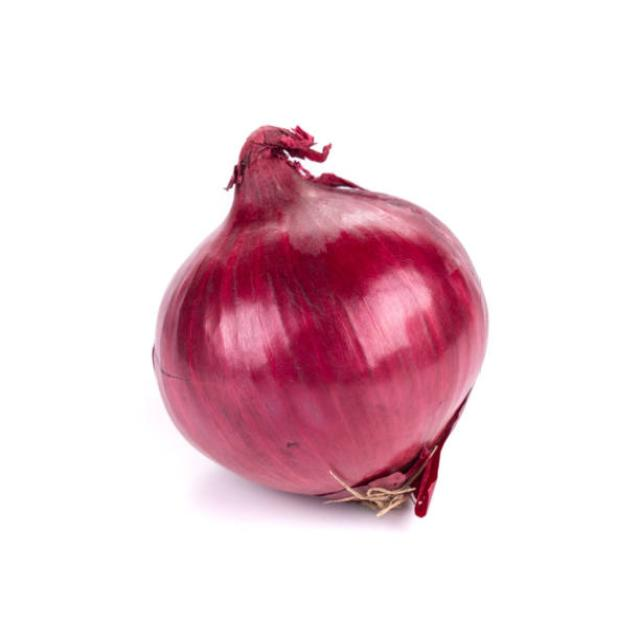onion: (149, 169, 492, 514)
